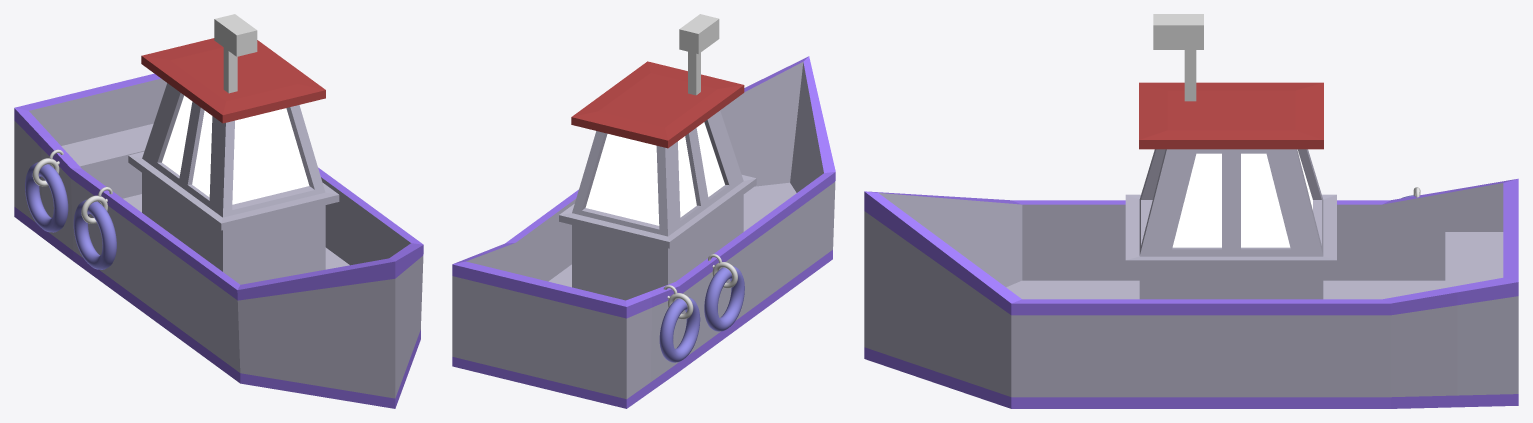
The model's file is boat.glb.
The picture shows the model from 3 angles, left to right: view 1: azimuth 30°, elevation 25°; view 2: azimuth 150°, elevation 25°; view 3: azimuth 270°, elevation 25°; orthographic projection. The views are drawn at different scales.
Parts seen in each view (by area): view 1: Cube, Cube.001, Torus.005, Torus; view 2: Cube, Cube.001, Torus, Torus.005; view 3: Cube, Cube.001.
Boxes of the visible parts, x1=… form: Cube: x1=14, y1=38, x2=423, y2=408; Cube.001: x1=214, y1=14, x2=257, y2=93; Torus.005: x1=73, y1=199, x2=116, y2=269; Torus: x1=25, y1=162, x2=68, y2=232; Cube: x1=452, y1=56, x2=835, y2=408; Cube.001: x1=679, y1=14, x2=719, y2=95; Torus: x1=659, y1=297, x2=700, y2=362; Torus.005: x1=704, y1=266, x2=744, y2=331; Cube: x1=864, y1=82, x2=1518, y2=408; Cube.001: x1=1153, y1=14, x2=1203, y2=101.
Size of the model in its own units: 7.21 by 9.35 by 16.93.
